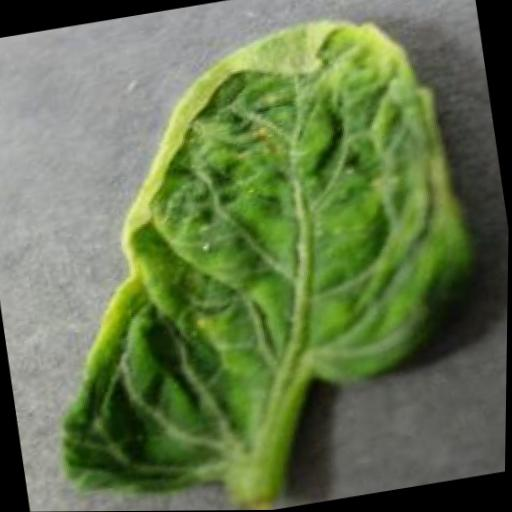Yellow Leaf Curl Virus: (0, 0, 509, 512)
